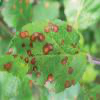Apple rust leaf: (0, 18, 91, 95)
